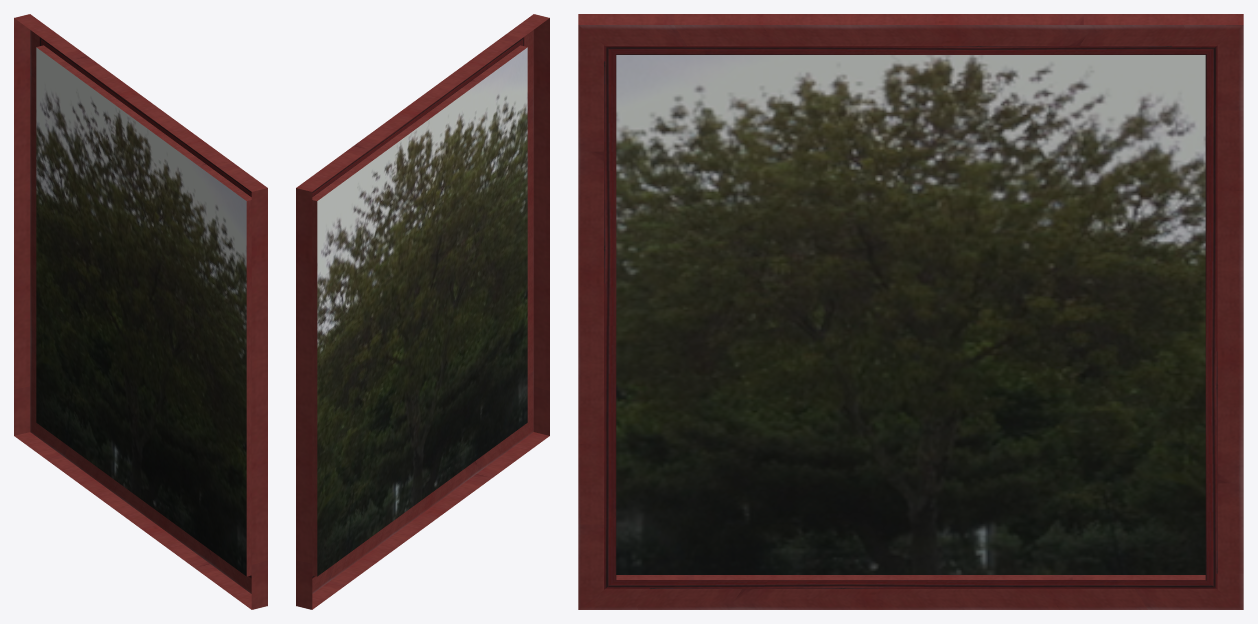
File: Paint06.fbx
3 views of the same model, side by side, from view 1: azimuth 30°, elevation 25°; view 2: azimuth 150°, elevation 25°; view 3: azimuth 270°, elevation 25° (orthographic). The views are drawn at different scales.
Visible parts, largest first — view 1: Cube (90); view 2: Cube (90); view 3: Cube (90).
Boxes of the visible parts, x1,y1,x2,y2 form: Cube (90): [14, 14, 267, 609]; Cube (90): [296, 14, 549, 609]; Cube (90): [578, 14, 1243, 609].
Size of the model in its own units: 4.04 by 100 by 103.
